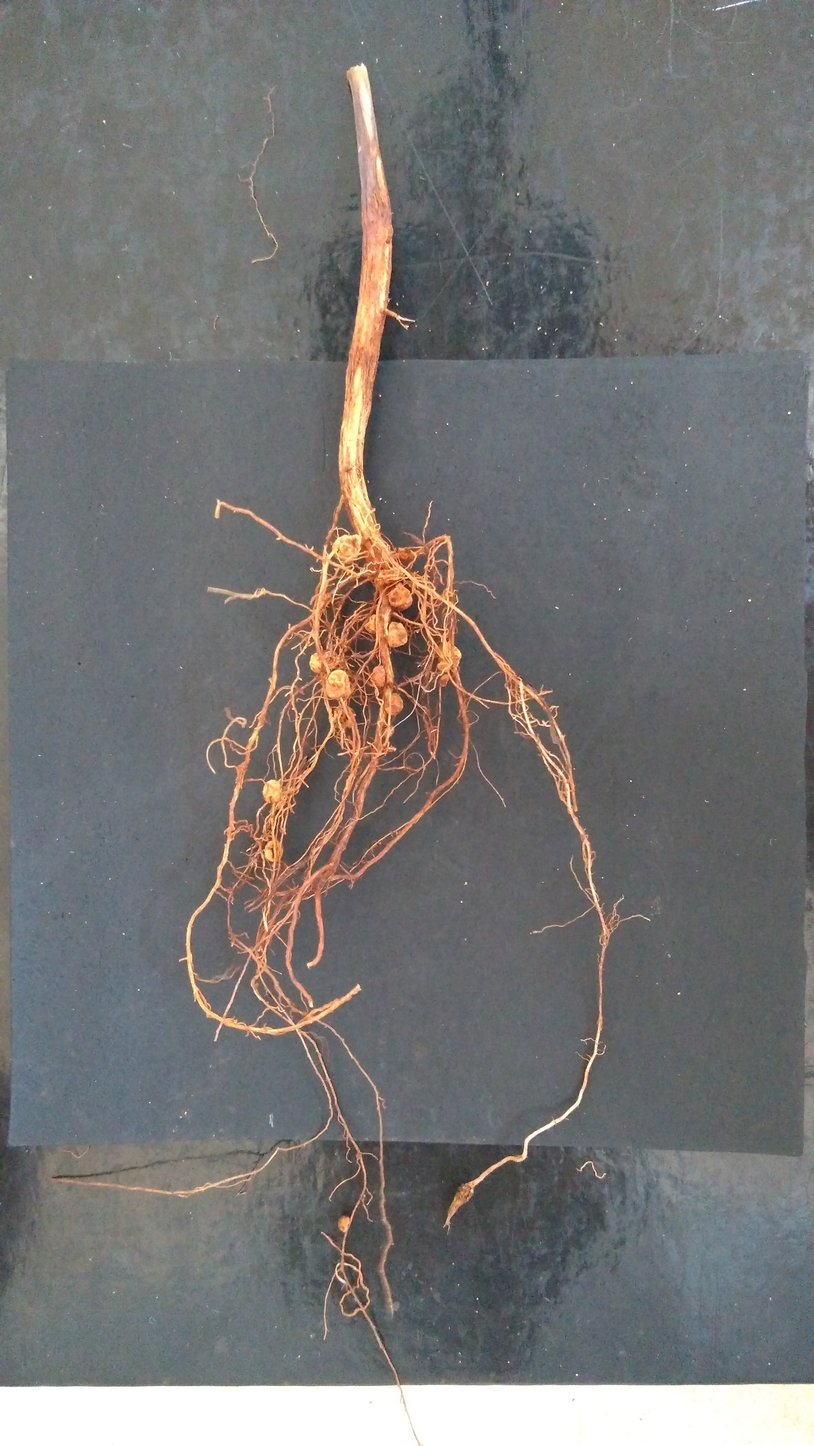nodule: (332, 534, 361, 563), (325, 669, 351, 698), (437, 644, 462, 672), (388, 583, 413, 611), (387, 622, 408, 648), (334, 705, 356, 728), (262, 779, 282, 803), (264, 839, 283, 862), (384, 693, 403, 716), (375, 567, 400, 583), (321, 649, 340, 670), (371, 666, 386, 687), (309, 652, 323, 673), (397, 547, 415, 561), (364, 614, 376, 634), (360, 563, 377, 577), (337, 1216, 351, 1233), (438, 673, 450, 687), (383, 725, 395, 737)
